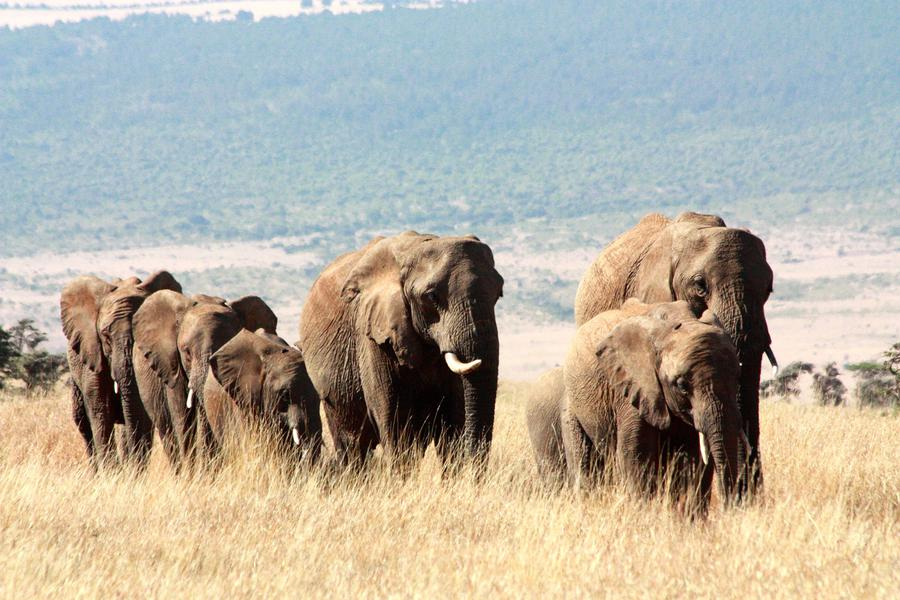elephant: (593, 308, 769, 450), (370, 234, 517, 381), (661, 218, 790, 339)
